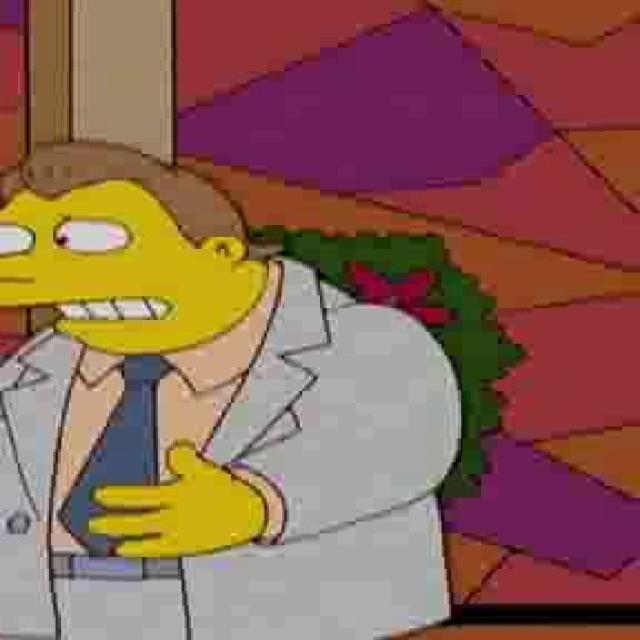Barney Gumble: (0, 136, 271, 358)
